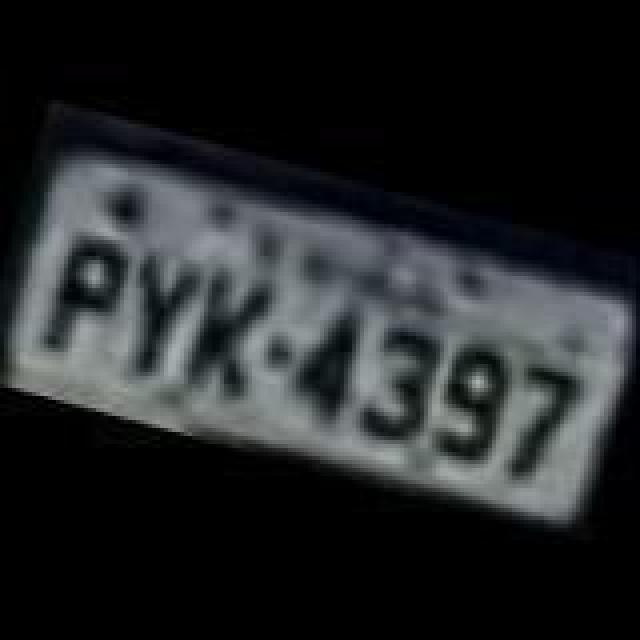3: (348, 316, 448, 452)
4: (276, 294, 376, 434)
7: (492, 360, 584, 488)
9: (422, 340, 518, 468)
K: (182, 262, 278, 410)
P: (32, 226, 132, 366)
Y: (108, 250, 208, 390)
